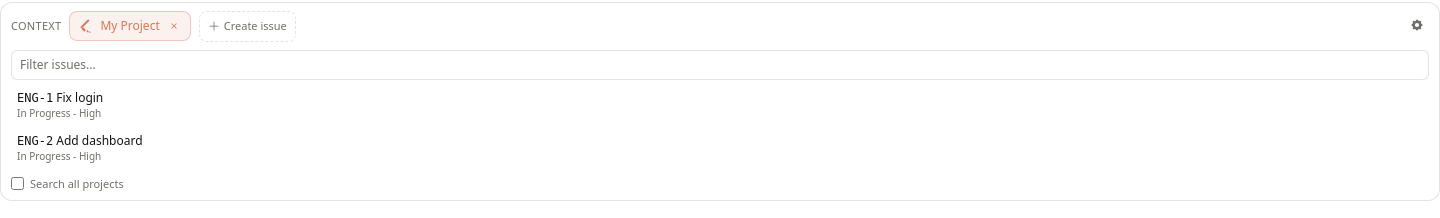
it: LinearSection › filters issues by search query in issue browser
This screenshot has width=1440, height=218.
Check: the text "ENG-1" is shown, box [17,90,53,104]
Check: the text "ENG-2" is shown, box [17,134,53,148]
// Filter by "login"
Type "login" into the field with placeholder "Filter issues..." at x=720, y=64, box [11,50,1429,80]
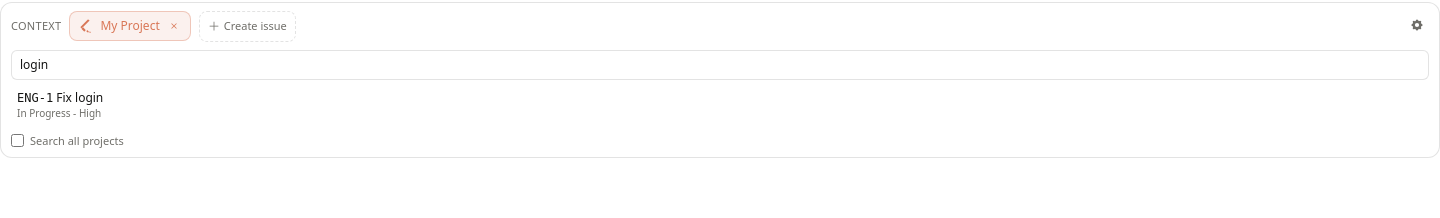
Check: the text "ENG-1" is shown, box [17,90,53,104]
Check: the button "ENG-2" is gone
